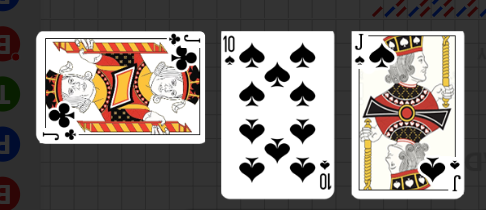10S: (318, 157, 332, 191), (224, 34, 237, 68)
JC: (41, 127, 78, 143)
JS: (353, 33, 397, 80), (420, 154, 464, 200)
